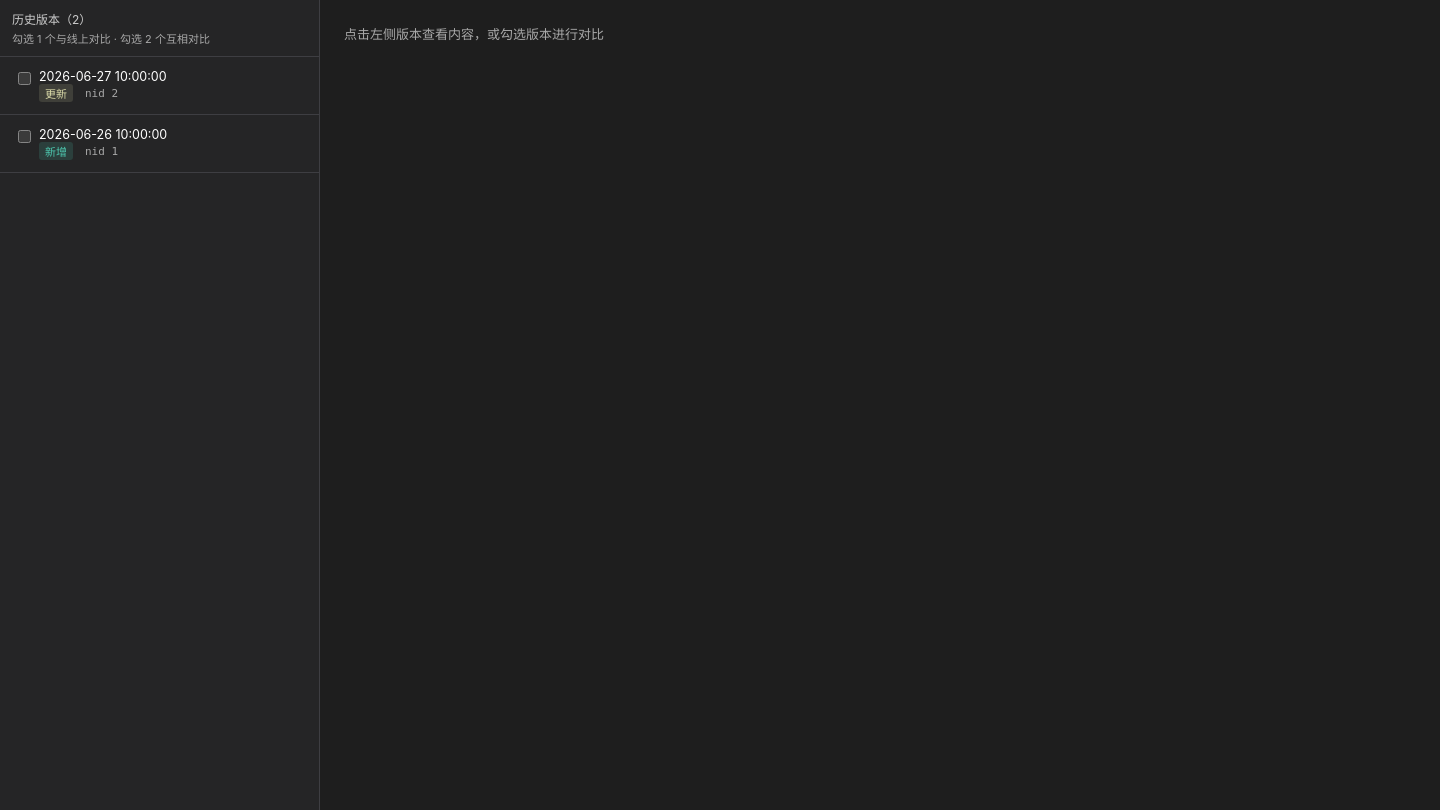
Test: HistoryView › compares a picked history version with current online content
This screenshot has width=1440, height=810.
Click the 1st checkbox titled "勾选用于对比" at (24, 78), box [18, 72, 31, 85]
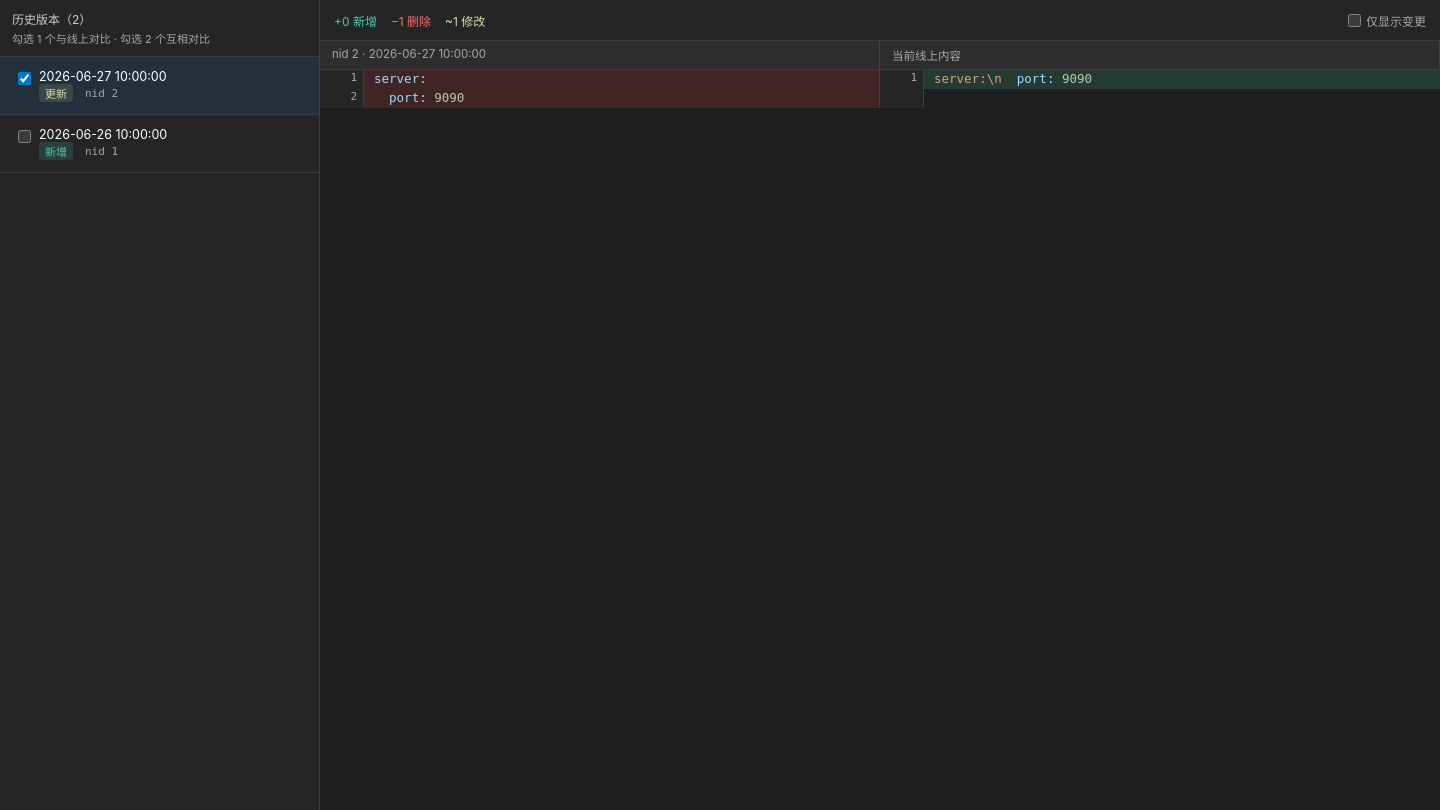
Expected: the text "nid 2" is shown, [85, 86, 118, 100]
Now the text "当前线上内容" is shown, box [880, 41, 1439, 69]
Now the element with class "diff-panel" shows "9090", box [1062, 71, 1092, 86]
